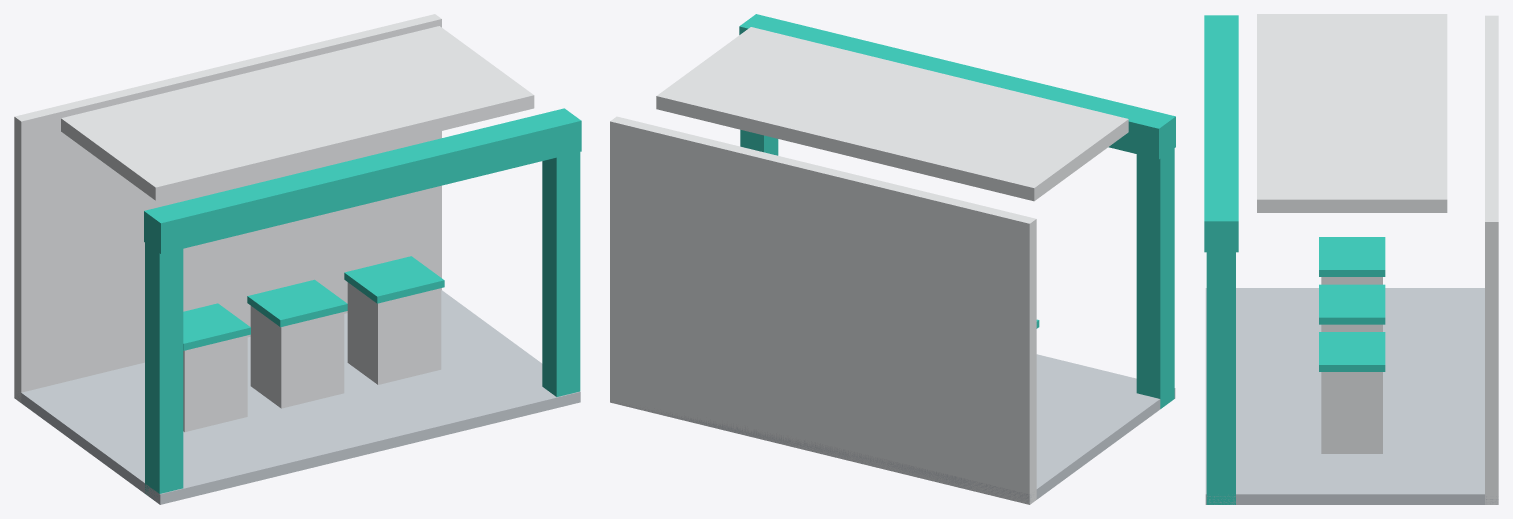
The picture shows the model from 3 angles, left to right: view 1: azimuth 30°, elevation 25°; view 2: azimuth 150°, elevation 25°; view 3: azimuth 270°, elevation 25°; orthographic projection.
Visible parts, largest first — view 1: Exhibition Booth Concept; view 2: Exhibition Booth Concept; view 3: Exhibition Booth Concept.
Part boxes in pixels (<box>): Exhibition Booth Concept: <box>14,14,581,504</box>; Exhibition Booth Concept: <box>610,14,1175,504</box>; Exhibition Booth Concept: <box>1204,14,1498,504</box>.
Bounding box in the file's own units: 5 × 3.34 × 3.01.
